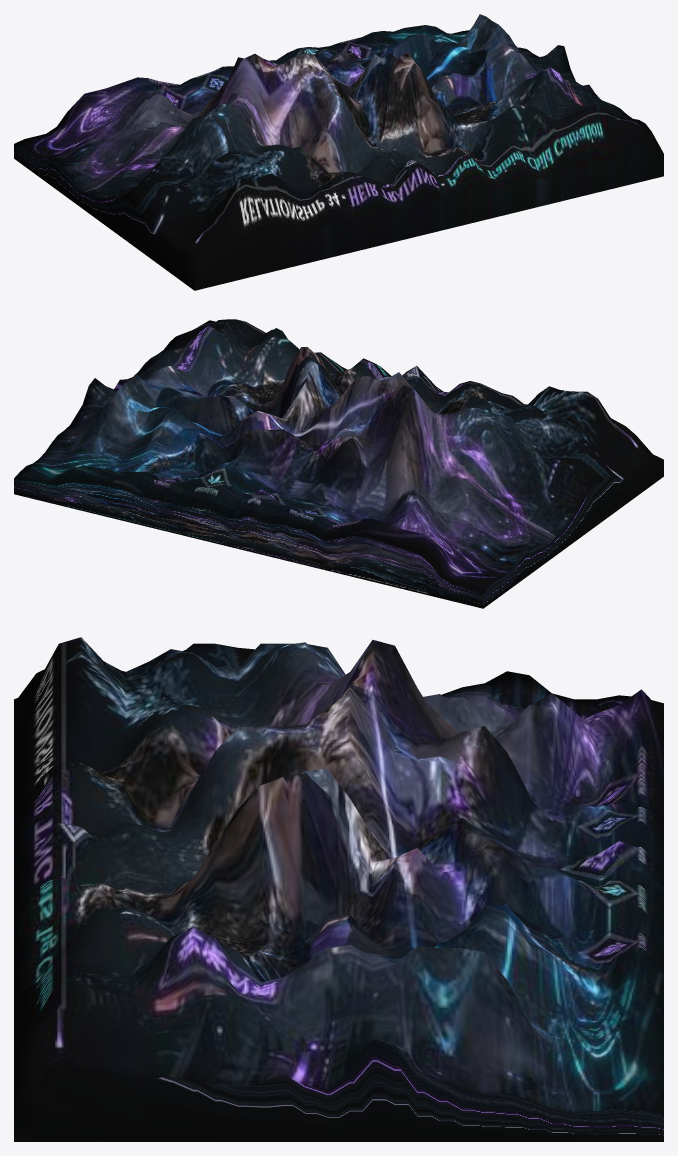
Rendered from RELATIONSHIP_34_Heir_Training.glb.
3 renders of one model, top to bottom at view 1: azimuth 30°, elevation 25°; view 2: azimuth 150°, elevation 25°; view 3: azimuth 270°, elevation 25°, orthographic. The views are drawn at different scales.
Visible parts, largest first — view 1: RELATIONSHIP_34_Heir_Training; view 2: RELATIONSHIP_34_Heir_Training; view 3: RELATIONSHIP_34_Heir_Training.
Boxes of the visible parts, x1,y1,x2,y2 form: RELATIONSHIP_34_Heir_Training: [14, 14, 663, 290]; RELATIONSHIP_34_Heir_Training: [14, 319, 663, 608]; RELATIONSHIP_34_Heir_Training: [14, 637, 663, 1141].
Size of the model in its own units: 2 by 0.51 by 1.33.
1 material, 1 textured.
